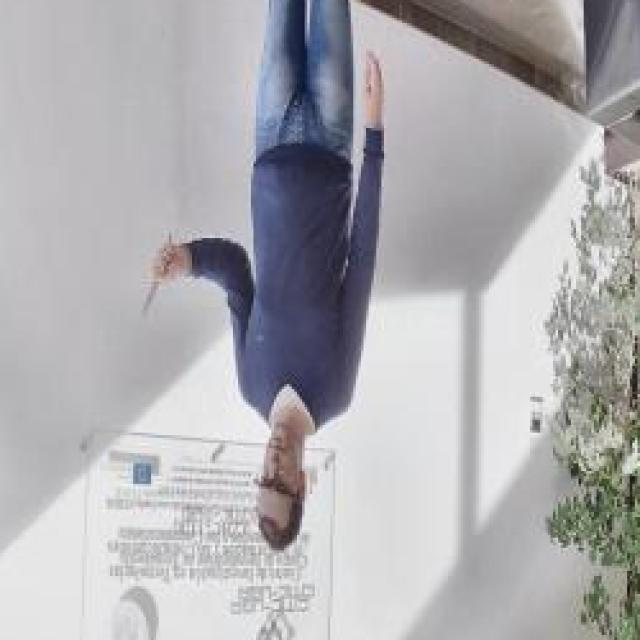knife: (138, 231, 174, 325)
